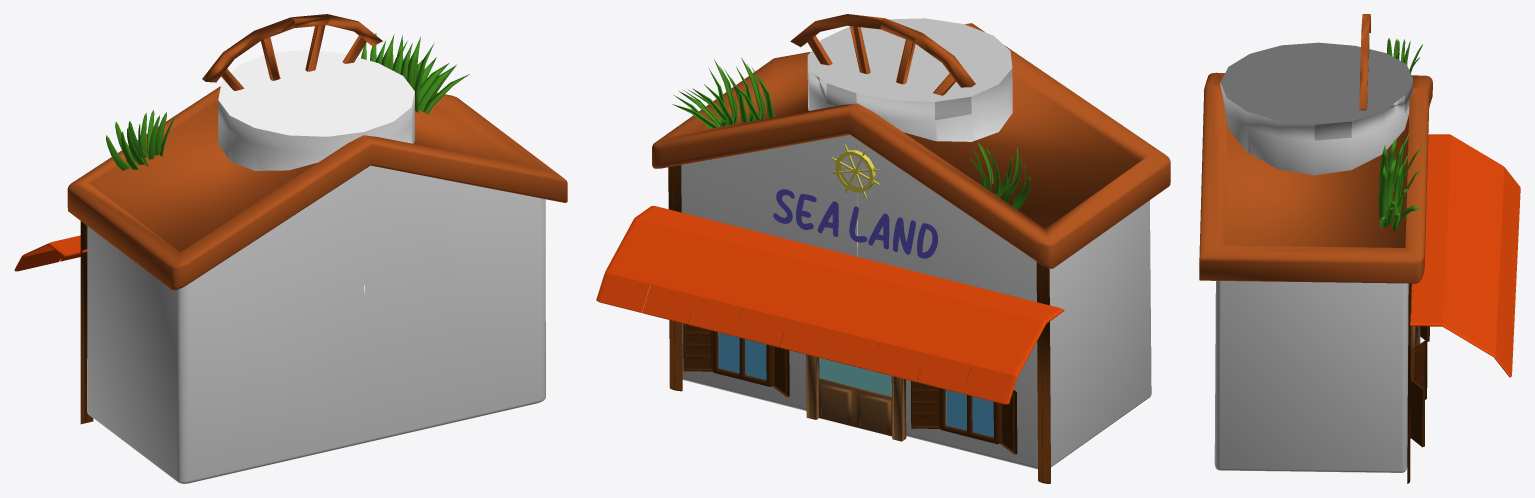
The model's file is sealandrestoran.fbx.
3 views of the same model, side by side, from view 1: azimuth 30°, elevation 25°; view 2: azimuth 150°, elevation 25°; view 3: azimuth 270°, elevation 25° (orthographic). The views are drawn at different scales.
Parts seen in each view (by area): view 1: Plane.003; view 2: Plane.003; view 3: Plane.003.
Boxes of the visible parts, <box> form: Plane.003: <box>14,14,567,483</box>; Plane.003: <box>596,14,1170,483</box>; Plane.003: <box>1199,14,1520,483</box>.
Bounding box in the file's own units: 467 × 424 × 334.
